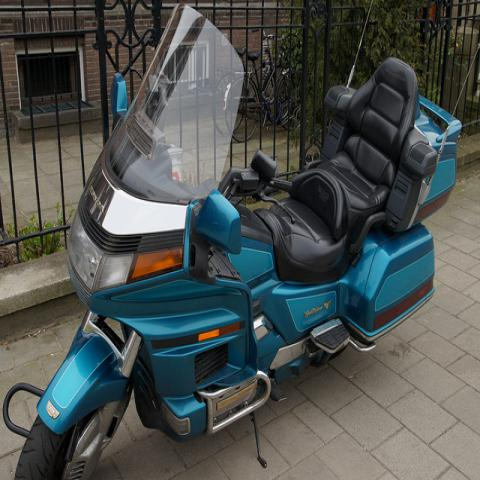motorcycle: (4, 0, 463, 474)
